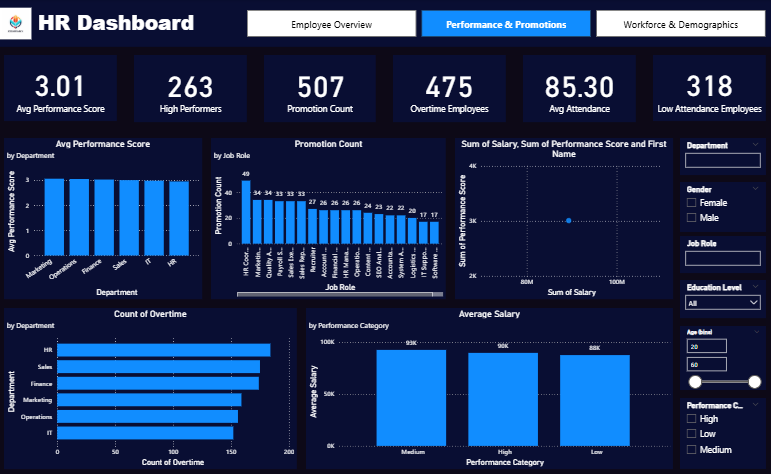

What the dashboard file says about the page in this screenshot:
{"tool":"powerbi","page":{"name":"Performance & Promotions","canvas":[1450,900],"ordinal":1},"visuals":[{"type":"shape","box":[0,0,1450,89.3],"z":0},{"type":"card","fields":{"Values":["HR Dataset.Avg Performance Score"]},"box":[15,104.7,210.3,123.5],"z":0,"group":"g1"},{"type":"columnChart","fields":{"Category":["HR Dataset.Department"],"Y":["HR Dataset.Avg Performance Score"]},"box":[14.9,258.7,368.5,299.7],"z":0,"group":"g2"},{"type":"barChart","fields":{"Category":["HR Dataset.Department"],"Y":["CountNonNull(HR Dataset.Overtime)"]},"box":[14.9,575.2,545.4,299.7],"z":0},{"type":"image","box":[0,11.5,72.3,69],"z":1000},{"type":"card","fields":{"Values":["HR Dataset.High Performers"]},"box":[256.9,104.1,210.3,124.7],"z":1000,"group":"g1"},{"type":"columnChart","fields":{"Category":["HR Dataset.Job Role"],"Y":["HR Dataset.Promotion Count"]},"box":[400.2,258.7,437.4,299.7],"z":1000,"group":"g2"},{"type":"columnChart","fields":{"Category":["HR Dataset.Performance Category"],"Y":["HR Dataset.Average Salary"]},"box":[577,575.2,683.1,299.7],"z":1000},{"type":"textbox","box":[72.6,11.2,327.6,68.9],"z":2000},{"type":"card","fields":{"Values":["HR Dataset.Promotion Count"]},"box":[498.9,104.1,208.5,124.7],"z":2000,"group":"g1"},{"type":"scatterChart","fields":{"X":["Sum(HR Dataset.Salary)"],"Y":["Sum(HR Dataset.Performance Score)"]},"box":[854.4,258.7,405.8,299.7],"z":2000,"group":"g2"},{"type":"group","id":"g1","title":"Group 1","box":[15,104.1,1418.2,124.7],"z":3000},{"type":"card","fields":{"Values":["HR Dataset.Overtime Employees"]},"box":[739,104.1,210.3,124.7],"z":3000,"group":"g1"},{"type":"card","fields":{"Values":["HR Dataset.Avg Attendance"]},"box":[980.9,104.1,210.3,124.7],"z":4000,"group":"g1"},{"type":"group","id":"g2","title":"Group 2","box":[14.9,258.7,1245.3,299.7],"z":4000},{"type":"card","fields":{"Values":["HR Dataset.Low Attendance Employees"]},"box":[1222.9,105,210.3,122.8],"z":5000,"group":"g1"},{"type":"slicer","fields":{"Values":["HR Dataset.Department"]},"box":[1273.2,258.7,160.1,68.9],"z":6000},{"type":"slicer","fields":{"Values":["HR Dataset.Gender"]},"box":[1273.2,340.6,160.1,93.1],"z":7000},{"type":"slicer","fields":{"Values":["HR Dataset.Job Role"]},"box":[1273.2,441.1,160.1,68.9],"z":8000},{"type":"slicer","fields":{"Values":["HR Dataset.Education Level"]},"box":[1273.2,523,160.1,70.7],"z":9000},{"type":"slicer","fields":{"Values":["HR Dataset.Age (bins)"]},"box":[1273.2,608.7,160.1,119.1],"z":10000},{"type":"pageNavigator","box":[467.2,20.5,966,50.3],"z":10001},{"type":"slicer","fields":{"Values":["HR Dataset.Performance Category"]},"box":[1273.2,742.7,160.1,132.2],"z":10002}]}

Visuals, with their boxes in screenshot pixels (x1, y1, x2, y2), scaled from the page's 1450x900 canvas onto the 771x474 screenshot:
shape: <box>0,0,770,47</box>
card - HR Dataset.Avg Performance Score: <box>8,55,120,120</box>
columnChart - HR Dataset.Department x HR Dataset.Avg Performance Score: <box>8,136,204,294</box>
barChart - HR Dataset.Department x CountNonNull(HR Dataset.Overtime): <box>8,303,298,461</box>
image: <box>0,6,38,42</box>
card - HR Dataset.High Performers: <box>137,55,248,121</box>
columnChart - HR Dataset.Job Role x HR Dataset.Promotion Count: <box>213,136,445,294</box>
columnChart - HR Dataset.Performance Category x HR Dataset.Average Salary: <box>307,303,670,461</box>
textbox: <box>39,6,213,42</box>
card - HR Dataset.Promotion Count: <box>265,55,376,121</box>
scatterChart - Sum(HR Dataset.Salary) x Sum(HR Dataset.Performance Score): <box>454,136,670,294</box>
"Group 1" group: <box>8,55,762,121</box>
card - HR Dataset.Overtime Employees: <box>393,55,505,121</box>
card - HR Dataset.Avg Attendance: <box>522,55,633,121</box>
"Group 2" group: <box>8,136,670,294</box>
card - HR Dataset.Low Attendance Employees: <box>650,55,762,120</box>
slicer - HR Dataset.Department: <box>677,136,762,173</box>
slicer - HR Dataset.Gender: <box>677,179,762,228</box>
slicer - HR Dataset.Job Role: <box>677,232,762,269</box>
slicer - HR Dataset.Education Level: <box>677,275,762,313</box>
slicer - HR Dataset.Age (bins): <box>677,321,762,383</box>
pageNavigator: <box>248,11,762,37</box>
slicer - HR Dataset.Performance Category: <box>677,391,762,461</box>
